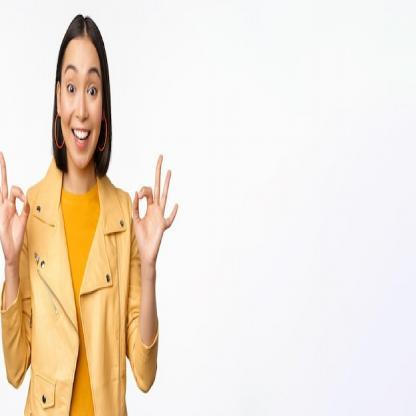ok: (128, 148, 182, 269)
